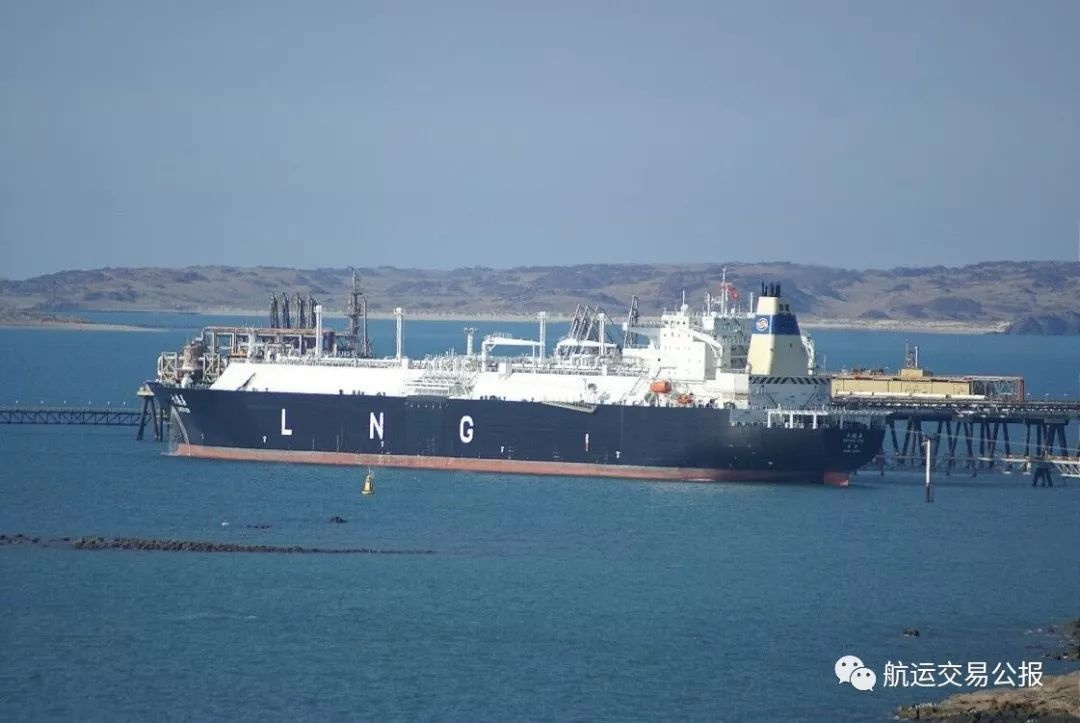Cargoship: (141, 270, 877, 474)
